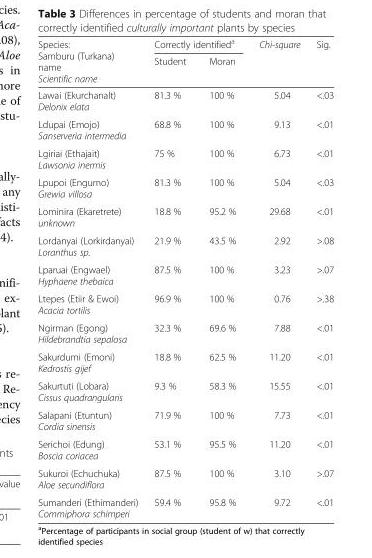table: (37, 36, 333, 518)
table column: (37, 36, 145, 518), (246, 36, 307, 518), (145, 36, 196, 518), (196, 36, 246, 518), (307, 36, 333, 518)
table column header: (37, 36, 333, 86)
table row: (37, 52, 333, 86), (37, 114, 333, 144), (37, 144, 333, 173), (37, 173, 333, 202), (37, 202, 333, 231), (37, 231, 333, 260), (37, 260, 333, 289), (37, 289, 333, 318), (37, 318, 333, 347), (37, 347, 333, 376), (37, 376, 333, 405), (37, 405, 333, 434), (37, 434, 333, 463), (37, 463, 333, 492), (37, 86, 333, 114), (37, 492, 333, 518), (37, 36, 333, 52)
table spanning cell: (37, 36, 145, 86), (246, 36, 307, 86), (145, 36, 246, 52), (307, 36, 333, 86)
